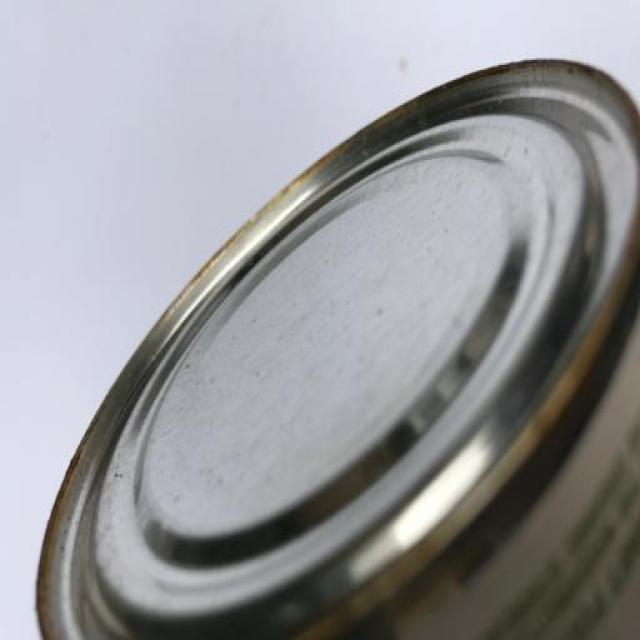metel: (113, 77, 640, 640)
